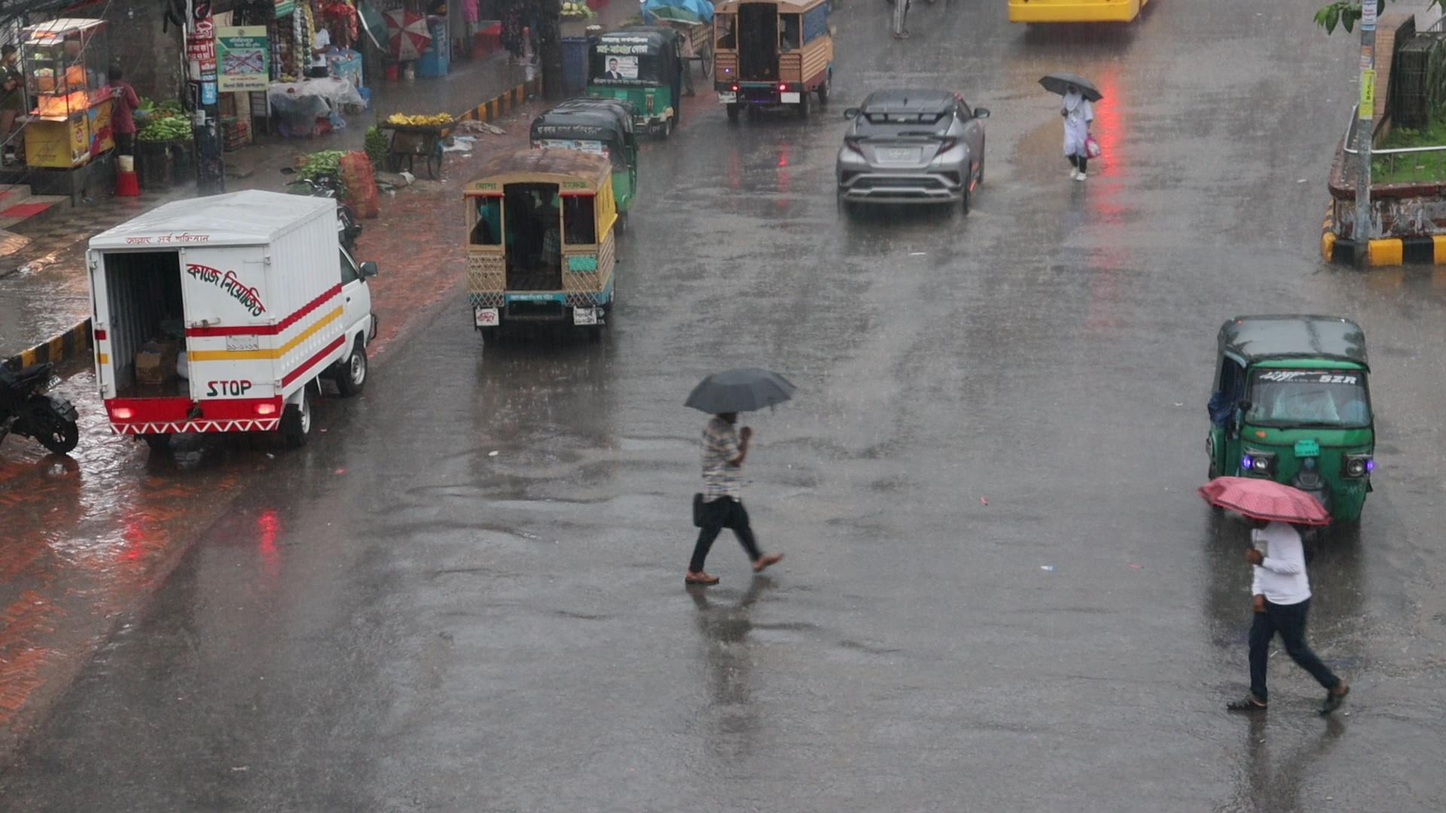Car: (834, 85, 989, 214)
Truck: (460, 145, 619, 339), (712, 0, 835, 118)
